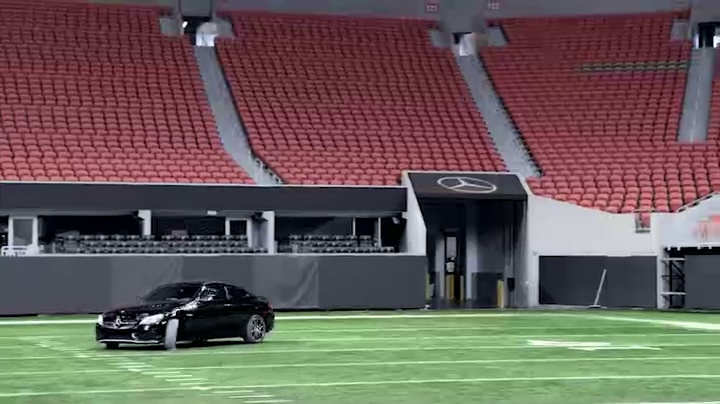amg: (91, 278, 278, 346)
